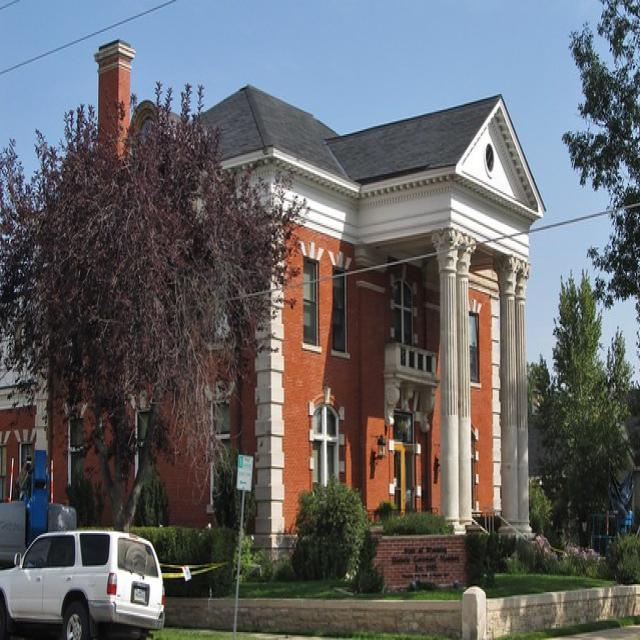building: (44, 34, 548, 578)
